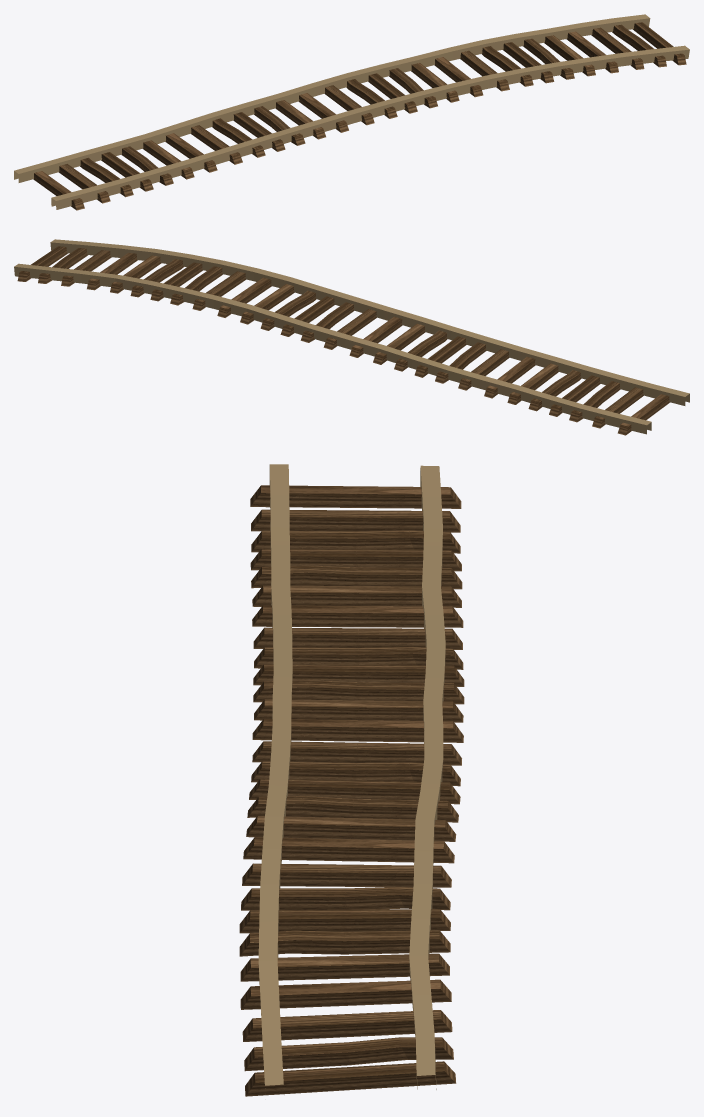
The model's file is Rail.obj.
The picture shows the model from 3 angles, top to bottom: view 1: azimuth 30°, elevation 25°; view 2: azimuth 150°, elevation 25°; view 3: azimuth 270°, elevation 25°; orthographic projection. The views are drawn at different scales.
Visible parts, largest first — view 1: Rail.002_Cube.017; view 2: Rail.002_Cube.017; view 3: Rail.002_Cube.017.
Part boxes in pixels (<box>): Rail.002_Cube.017: <box>14,14,689,210</box>; Rail.002_Cube.017: <box>14,239,689,435</box>; Rail.002_Cube.017: <box>239,464,464,1096</box>.
Size of the model in its own units: 13.39 by 0.5913 by 2.06.
